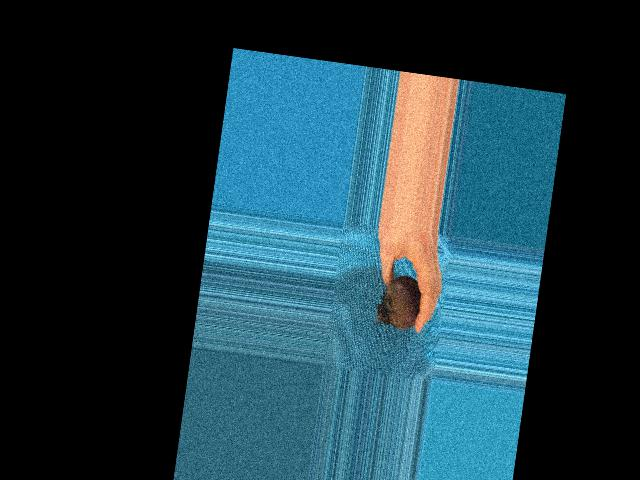beet: (373, 273, 423, 331)
